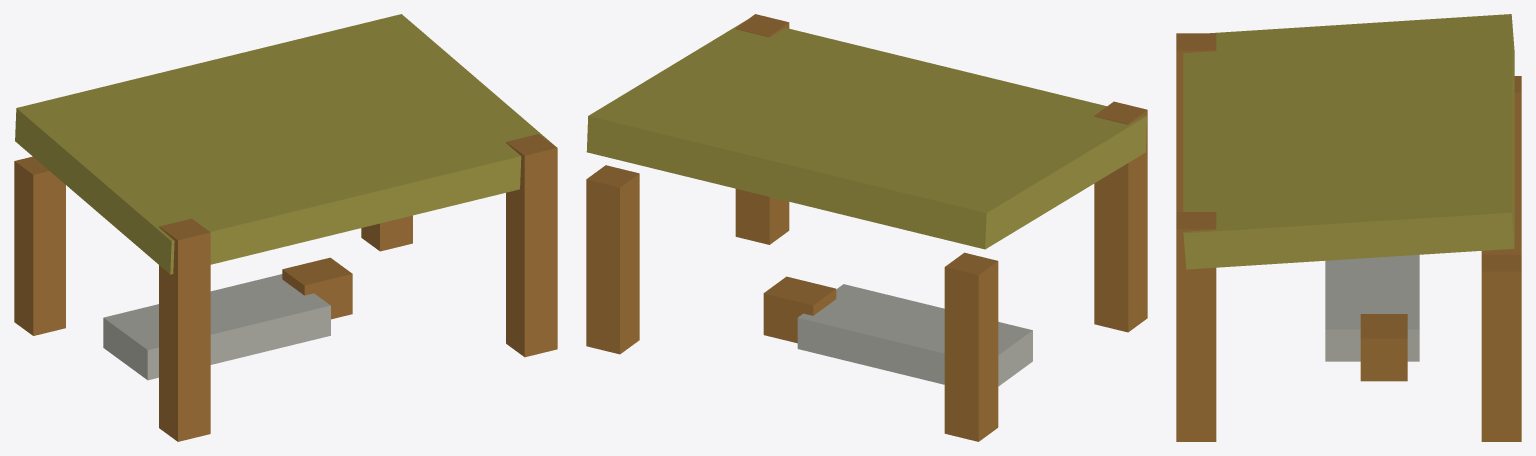
File: SM_Tienda_v1_Lona_LOD1.fbx
3 renders of one model, left to right at view 1: azimuth 30°, elevation 25°; view 2: azimuth 150°, elevation 25°; view 3: azimuth 270°, elevation 25°, orthographic. The views are drawn at different scales.
Parts seen in each view (by area): view 1: SM_vida_fuerte_v16_LOD1; view 2: SM_vida_fuerte_v16_LOD1; view 3: SM_vida_fuerte_v16_LOD1.
Boxes of the visible parts, left/top/right/bottom form: SM_vida_fuerte_v16_LOD1: left=14, top=14, right=557, bottom=441; SM_vida_fuerte_v16_LOD1: left=586, top=14, right=1147, bottom=441; SM_vida_fuerte_v16_LOD1: left=1176, top=14, right=1521, bottom=441.
Bounding box in the file's own units: 4 × 2.17 × 2.94.
